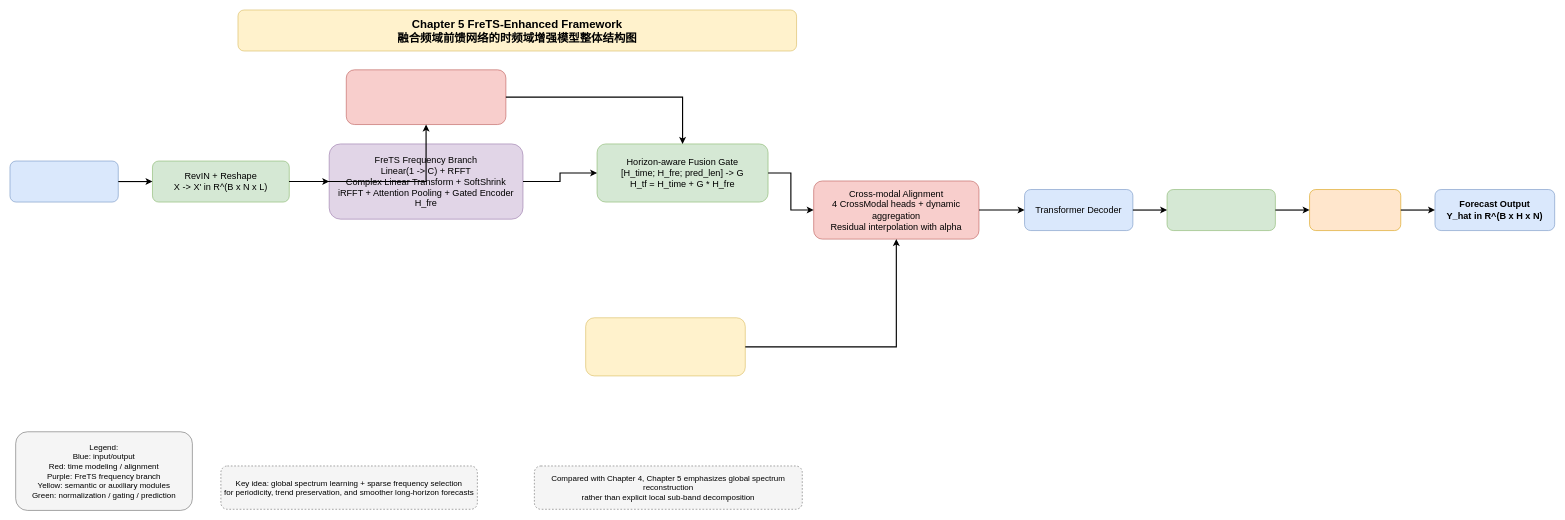
Some shapes in this 1565 by 520 pixel diagram are drawn without their labels. The shapes that lost their labels are listed below. From the top down, each one's box as (x1, y1, x2, y2) in pixels, then its label:
(346, 69, 506, 125): Time-domain Branch Linear(L -> C) + Gated Transformer H_time
(9, 160, 118, 202): Multivariate Input X in R^(B x L x N)
(1167, 189, 1275, 231): Linear(C -> H) Prediction Head
(1309, 189, 1401, 231): RevIN Inverse
(585, 317, 745, 376): Frozen LLM Semantic Prior Qwen embeddings -> prompt_encoder H_sem
